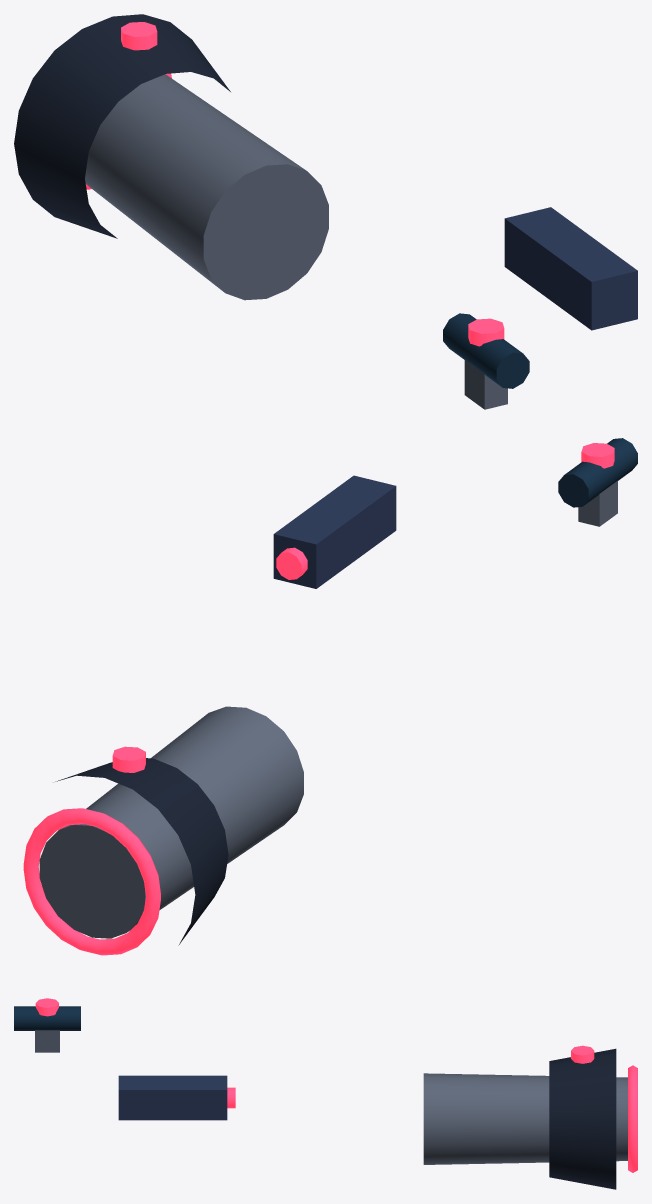
File: tower_filament_optics_s5.glb
3 renders of one model, top to bottom at view 1: azimuth 30°, elevation 25°; view 2: azimuth 150°, elevation 25°; view 3: azimuth 270°, elevation 25°, orthographic. The views are drawn at different scales.
Parts seen in each view (by area): view 1: filament_tube_ext, filament_lens_hood, filament_rangefinder, filament_sight_glass, filament_sight_mount, filament_up_optics_l3_stud, filament_up_optics_l2_stud; view 2: filament_tube_ext, filament_rangefinder, filament_lens_hood, filament_tube_ext_ring, filament_sight_glass, filament_sight_mount, filament_rangefinder_lens, filament_up_optics_l3_stud; view 3: filament_tube_ext, filament_lens_hood, filament_rangefinder, filament_sight_glass, filament_tube_ext_ring, filament_sight_mount, filament_up_optics_l3_stud, filament_up_optics_l2_stud.
Boxes of the visible parts, left/top/right/bottom form: filament_tube_ext: left=85, top=74, right=328, bottom=300; filament_lens_hood: left=14, top=14, right=230, bottom=238; filament_rangefinder: left=504, top=207, right=637, bottom=330; filament_sight_glass: left=443, top=313, right=529, bottom=388; filament_sight_mount: left=464, top=359, right=507, bottom=409; filament_up_optics_l3_stud: left=121, top=22, right=157, bottom=50; filament_up_optics_l2_stud: left=468, top=318, right=504, bottom=346; filament_tube_ext: left=39, top=706, right=303, bottom=938; filament_rangefinder: left=273, top=475, right=396, bottom=588; filament_lens_hood: left=55, top=758, right=228, bottom=945; filament_tube_ext_ring: left=23, top=808, right=160, bottom=955; filament_sight_glass: left=558, top=438, right=637, bottom=507; filament_sight_mount: left=578, top=480, right=617, bottom=526; filament_rangefinder_lens: left=276, top=547, right=307, bottom=579; filament_up_optics_l3_stud: left=112, top=746, right=145, bottom=772; filament_tube_ext: left=423, top=1073, right=627, bottom=1164; filament_lens_hood: left=549, top=1048, right=616, bottom=1189; filament_rangefinder: left=118, top=1075, right=227, bottom=1120; filament_sight_glass: left=14, top=1006, right=80, bottom=1030; filament_tube_ext_ring: left=628, top=1065, right=637, bottom=1172; filament_sight_mount: left=35, top=1030, right=59, bottom=1052; filament_up_optics_l3_stud: left=571, top=1045, right=594, bottom=1063; filament_up_optics_l2_stud: left=35, top=998, right=58, bottom=1016.
Size of the model in its own units: 0.39 by 0.411 by 1.49.
